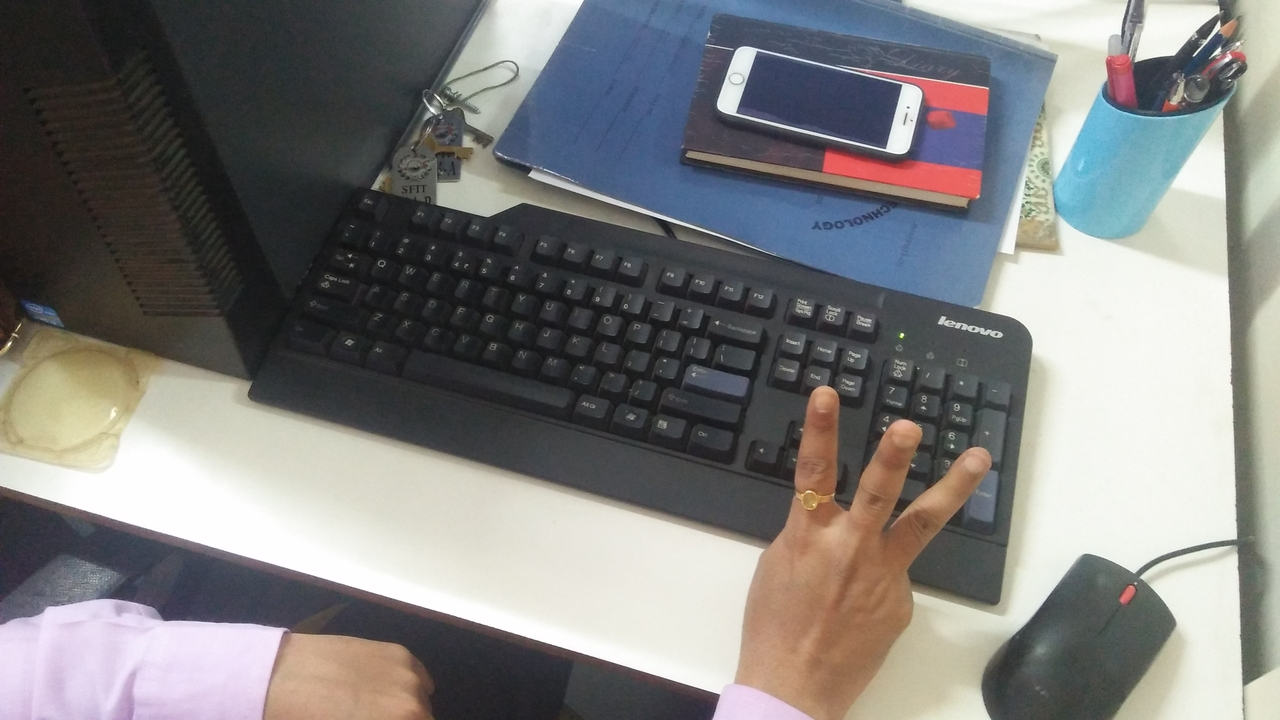fingertip: (872, 414, 930, 468), (953, 443, 1001, 484), (800, 386, 848, 426)
